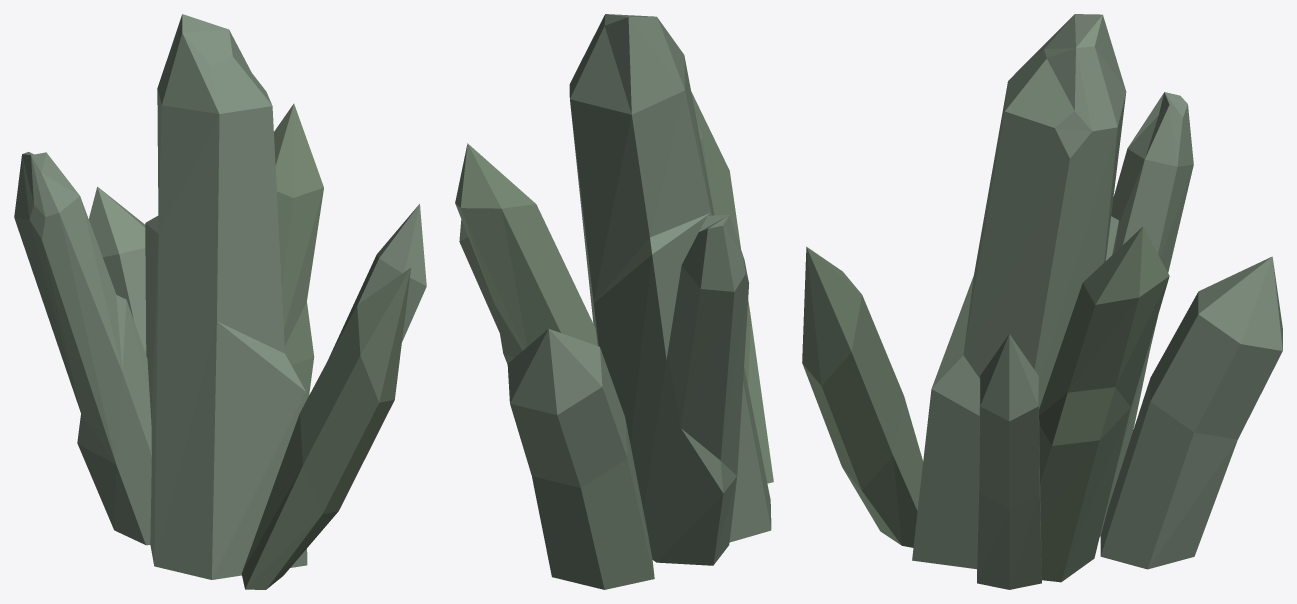
File: ADDON_STONES_CRYSTAL_01_228P.OBJ
The picture shows the model from 3 angles, left to right: view 1: azimuth 30°, elevation 25°; view 2: azimuth 150°, elevation 25°; view 3: azimuth 270°, elevation 25°; orthographic projection. The views are drawn at different scales.
Parts seen in each view (by area): view 1: ADDON_STONES_CRYSTAL_01_228P; view 2: ADDON_STONES_CRYSTAL_01_228P; view 3: ADDON_STONES_CRYSTAL_01_228P.
Boxes of the visible parts, x1,y1,x2,y2 form: ADDON_STONES_CRYSTAL_01_228P: (14, 14, 426, 589); ADDON_STONES_CRYSTAL_01_228P: (455, 14, 773, 589); ADDON_STONES_CRYSTAL_01_228P: (802, 14, 1282, 589).
Bounding box in the file's own units: 0.8864 × 1.26 × 1.04.
